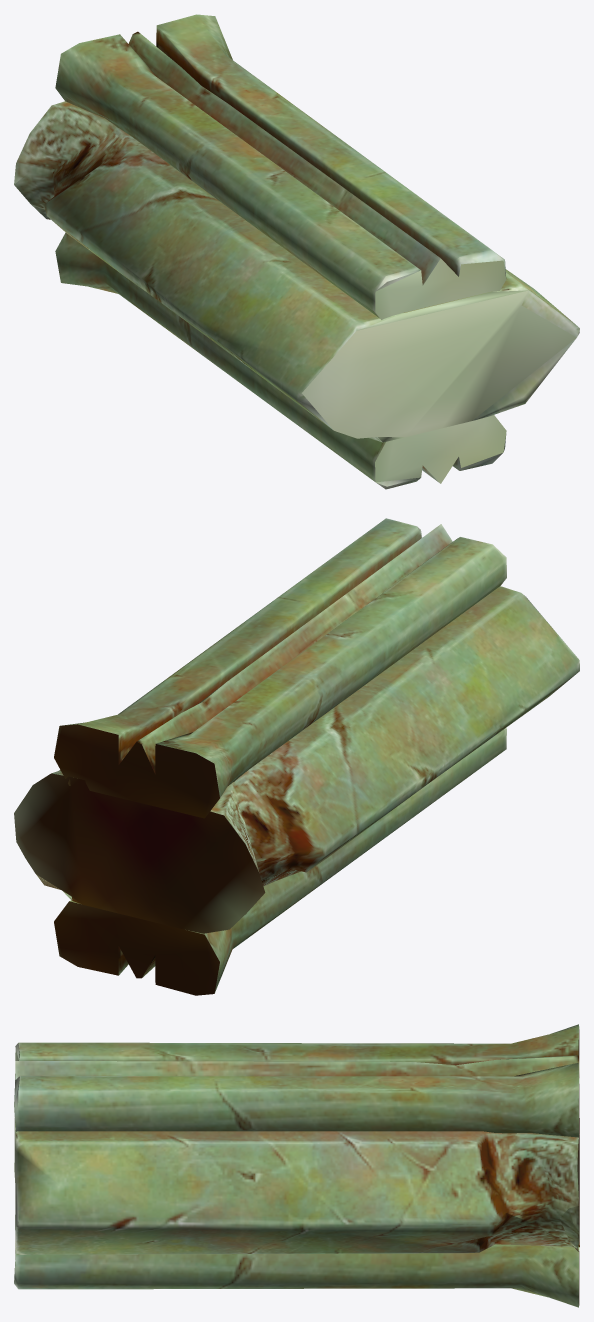
The model's file is Ruins_Collumn_8M_Base.obj.
3 views of the same model, one above another, from view 1: azimuth 30°, elevation 25°; view 2: azimuth 150°, elevation 25°; view 3: azimuth 270°, elevation 25° (orthographic). The views are drawn at different scales.
Visible parts, largest first — view 1: Dn_HL_Ruins_Collumn_8M_Base_A; view 2: Dn_HL_Ruins_Collumn_8M_Base_A; view 3: Dn_HL_Ruins_Collumn_8M_Base_A.
Boxes of the visible parts, bbox=[...] form: Dn_HL_Ruins_Collumn_8M_Base_A: bbox=[14, 14, 579, 489]; Dn_HL_Ruins_Collumn_8M_Base_A: bbox=[14, 518, 579, 995]; Dn_HL_Ruins_Collumn_8M_Base_A: bbox=[14, 1024, 579, 1307].
Size of the model in its own units: 4.31 by 3.51 by 8.02.
